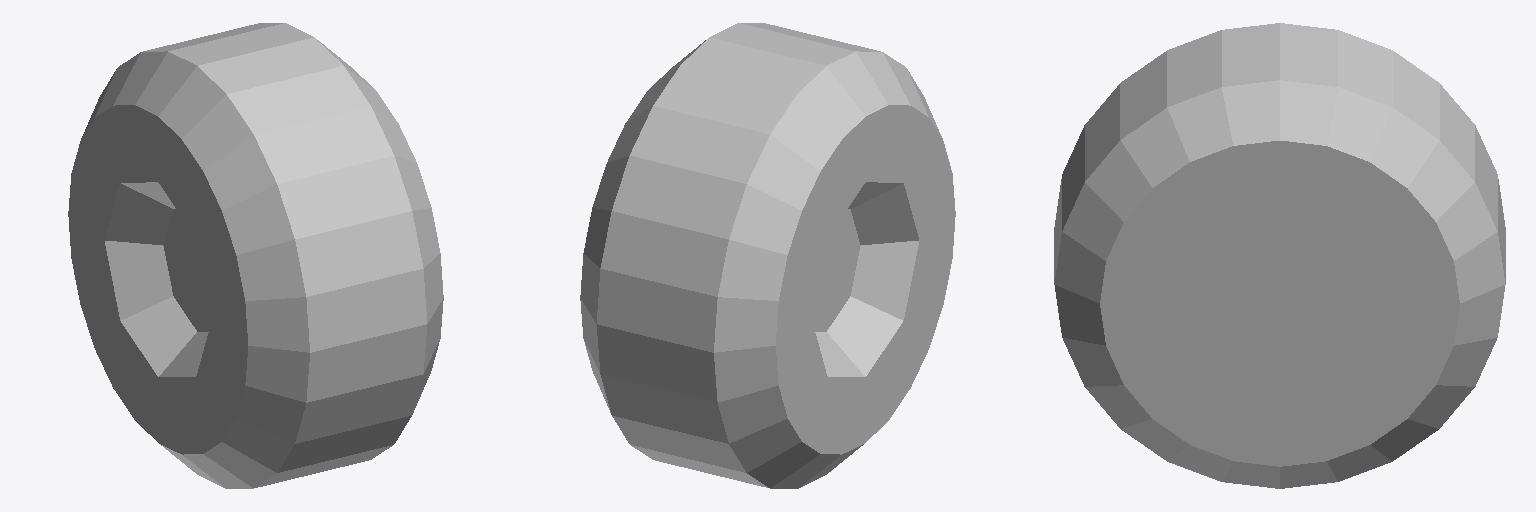
File: wheel-medium.obj
3 views of the same model, side by side, from view 1: azimuth 30°, elevation 25°; view 2: azimuth 150°, elevation 25°; view 3: azimuth 270°, elevation 25° (orthographic).
Visible parts, largest first — view 1: wheel-medium; view 2: wheel-medium; view 3: wheel-medium.
Boxes of the visible parts, <box> form: wheel-medium: <box>68,23,443,488</box>; wheel-medium: <box>580,23,955,488</box>; wheel-medium: <box>1054,23,1505,488</box>.
Bounding box in the file's own units: 0.1562 × 0.3125 × 0.3125.